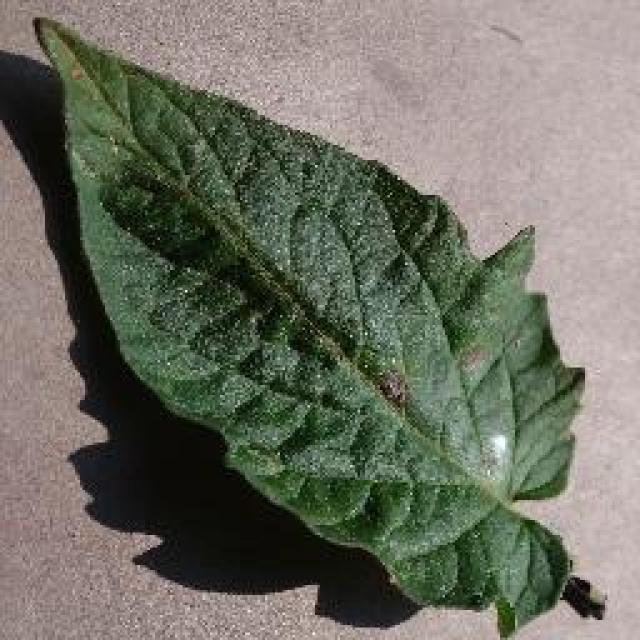Tomato Late Blight: (162, 140, 526, 510)
